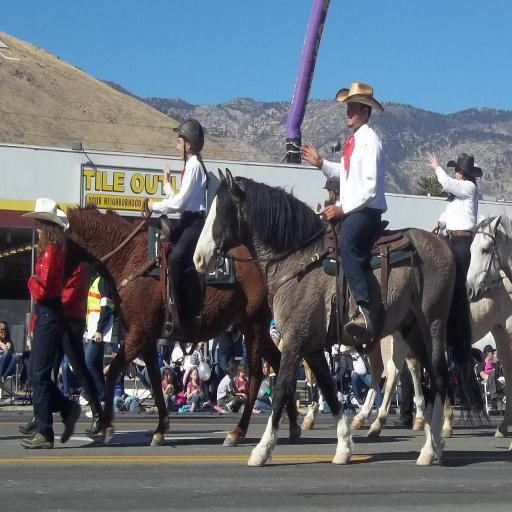horse: (62, 166, 512, 466)
